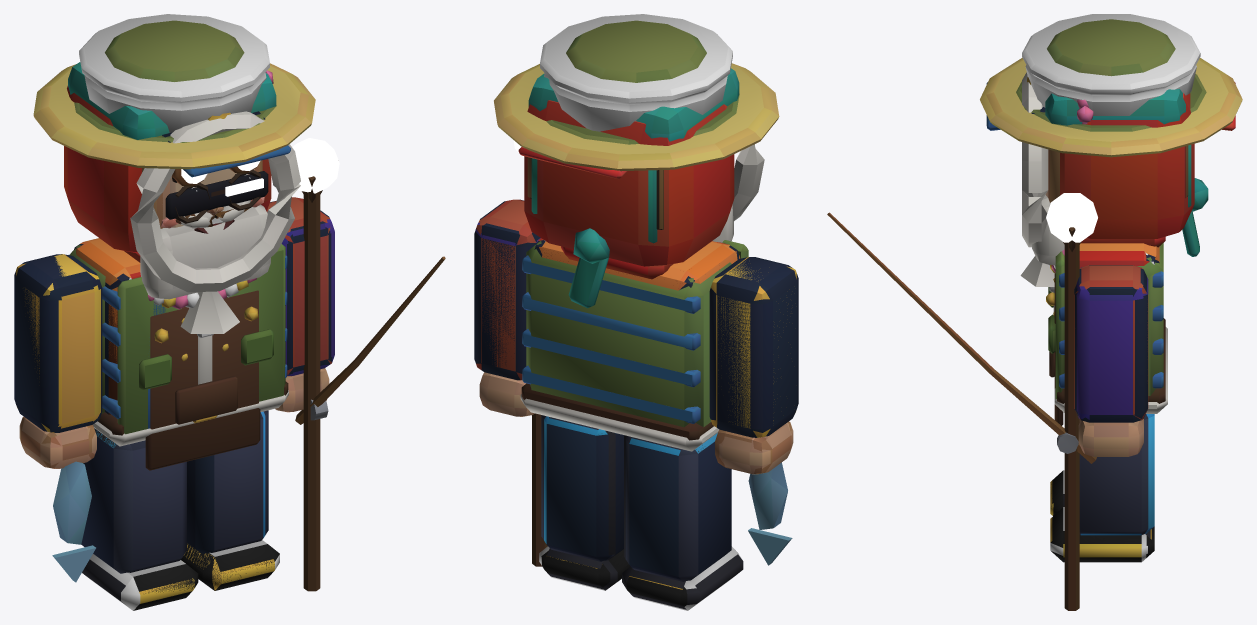
Rendered from chars.glb.
3 renders of one model, left to right at view 1: azimuth 30°, elevation 25°; view 2: azimuth 150°, elevation 25°; view 3: azimuth 270°, elevation 25°, orthographic. The views are drawn at different scales.
Parts seen in each view (by area): view 1: frost_body, frost_head, guide_head, ember_body, market_armL, willow_head, captain_head, moon_armR, guide_body, captain_armL, captain_body, guide_armR (+8 smaller); view 2: captain_body, frost_head, guide_body, captain_armL, willow_head, host_body, captain_head, frost_body, guide_head, captain_armR, market_armL, market_head (+5 smaller); view 3: moon_armR, frost_head, willow_head, captain_head, guide_head, frost_body, guide_armR, captain_armR, market_head, captain_body, guide_body, coral_body (+1 smaller).
Boxes of the visible parts, left/top/right/bottom form: frost_body: left=82, top=272, right=288, bottom=603; frost_head: left=64, top=86, right=300, bottom=292; guide_head: left=74, top=20, right=276, bottom=333; ember_body: left=94, top=290, right=274, bottom=593; market_armL: left=15, top=254, right=100, bottom=582; willow_head: left=33, top=63, right=315, bottom=230; captain_head: left=79, top=14, right=269, bottom=233; moon_armR: left=279, top=138, right=339, bottom=591; guide_body: left=70, top=244, right=285, bottom=434; captain_armL: left=14, top=254, right=102, bottom=468; captain_body: left=74, top=244, right=288, bottom=610; guide_armR: left=266, top=197, right=445, bottom=424; captain_body: left=521, top=240, right=738, bottom=606; frost_head: left=524, top=100, right=764, bottom=266; guide_body: left=526, top=240, right=748, bottom=427; captain_armL: left=709, top=257, right=798, bottom=474; willow_head: left=494, top=63, right=779, bottom=171; host_body: left=522, top=240, right=741, bottom=610; captain_head: left=540, top=14, right=732, bottom=131; frost_body: left=520, top=238, right=743, bottom=609; guide_head: left=546, top=20, right=739, bottom=242; captain_armR: left=474, top=199, right=540, bottom=416; market_armL: left=711, top=257, right=796, bottom=565; market_head: left=528, top=68, right=739, bottom=308; moon_armR: left=1046, top=193, right=1148, bottom=610; frost_head: left=1022, top=72, right=1194, bottom=247; willow_head: left=980, top=57, right=1242, bottom=157; captain_head: left=1022, top=14, right=1200, bottom=115; guide_head: left=1016, top=19, right=1206, bottom=286; frost_body: left=1053, top=251, right=1167, bottom=538; guide_armR: left=827, top=212, right=1148, bottom=463; captain_armR: left=1074, top=265, right=1147, bottom=453; market_head: left=1045, top=88, right=1208, bottom=256; captain_body: left=1050, top=236, right=1165, bottom=562; guide_body: left=1048, top=243, right=1163, bottom=398; coral_body: left=1048, top=243, right=1159, bottom=557.
Bounding box in the file's own units: 1.44 × 2.6 × 1.91.
